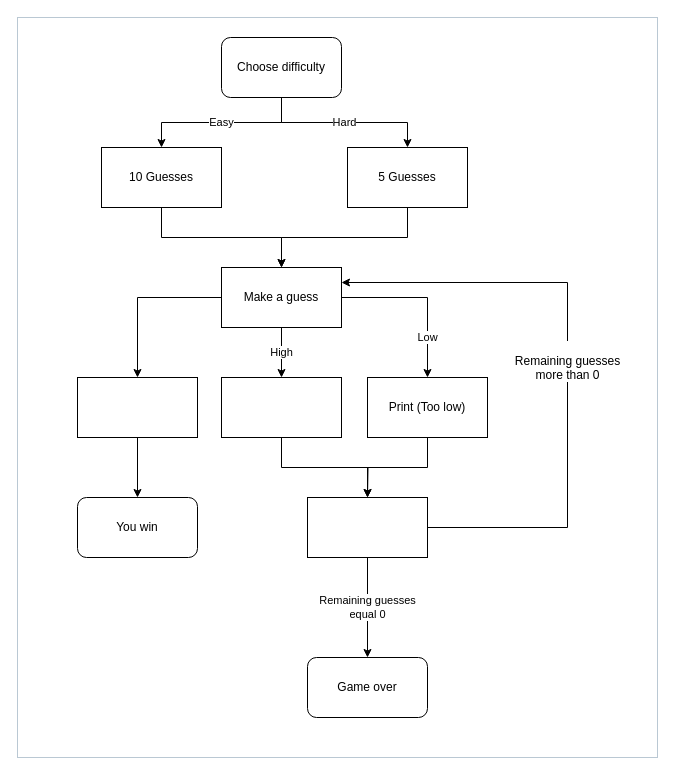
Some shapes in this 675 by 775 pixel diagram are drawn without their labels. The centre of each missing label's shape, as x and y in pixels:
"Correct" goes at (x=137, y=407).
"Print (Too high)" goes at (x=281, y=407).
"Reduce remaining guesses by 1" goes at (x=367, y=527).
